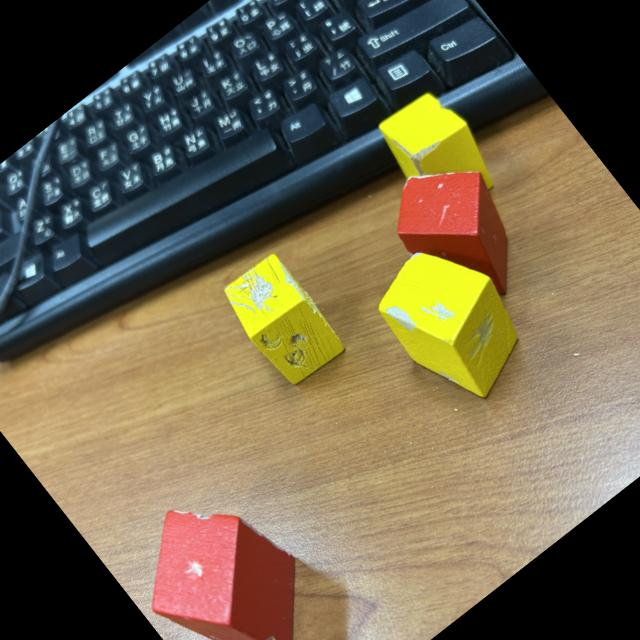broken: (109, 466, 342, 640), (361, 224, 549, 420), (372, 140, 550, 326), (368, 80, 509, 228), (215, 248, 352, 393)
